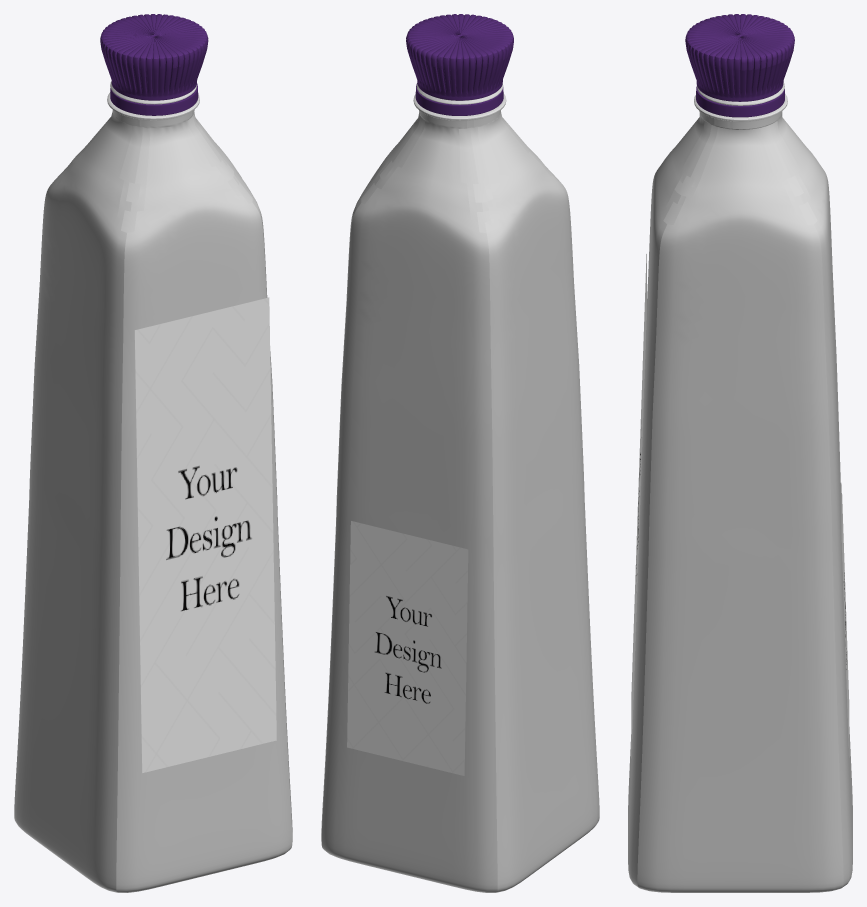
The model's file is Plastic Water bottle.glb.
3 views of the same model, side by side, from view 1: azimuth 30°, elevation 25°; view 2: azimuth 150°, elevation 25°; view 3: azimuth 270°, elevation 25° (orthographic).
Parts seen in each view (by area): view 1: bottle001, Plane.001, Mesh_1, Circle003001; view 2: bottle001, Plane.001, Mesh_1, Circle003001; view 3: bottle001, Mesh_1, Plane.001, Circle003001, Plane.
Boxes of the visible parts, x1=… form: bottle001: x1=14, y1=81, x2=292, y2=892; Plane.001: x1=135, y1=297, x2=276, y2=772; Mesh_1: x1=100, y1=14, x2=208, y2=100; Circle003001: x1=110, y1=83, x2=198, y2=115; bottle001: x1=321, y1=83, x2=599, y2=892; Plane.001: x1=347, y1=521, x2=468, y2=775; Mesh_1: x1=406, y1=14, x2=513, y2=100; Circle003001: x1=415, y1=84, x2=503, y2=115; bottle001: x1=628, y1=82, x2=852, y2=892; Mesh_1: x1=685, y1=14, x2=794, y2=101; Plane.001: x1=631, y1=254, x2=849, y2=757; Circle003001: x1=696, y1=86, x2=784, y2=117; Plane: x1=631, y1=254, x2=646, y2=758.
Bounding box in the file's own units: 0.0678 × 0.2709 × 0.0678.
Materials: 4 (1 with a texture image).
